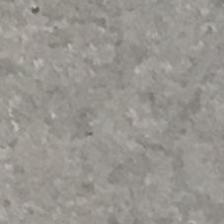Non_Crack: (32, 21, 209, 202)
